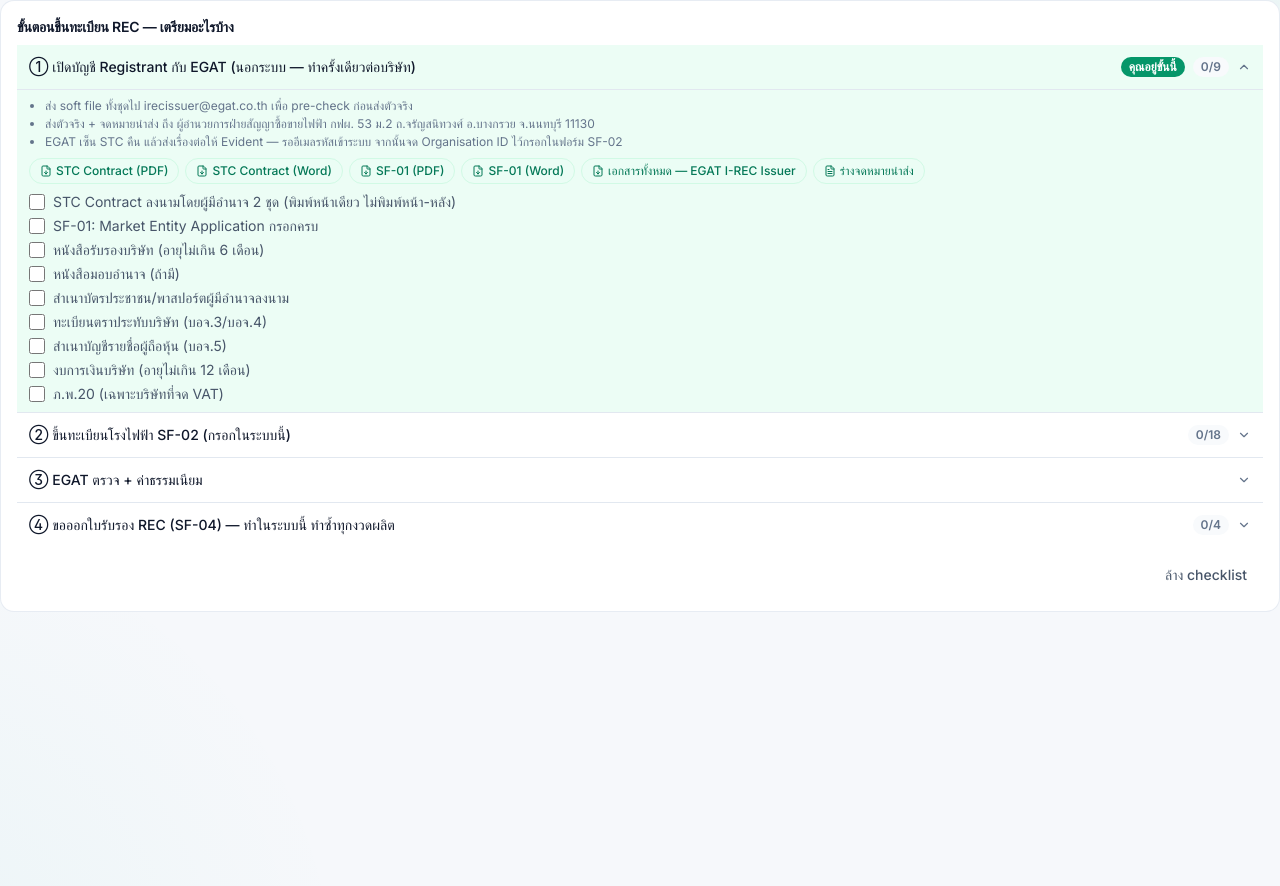
Scenario: RecGuide — 3-phase checklist › phase 1 is expanded by default; phase 2 expands on click
This screenshot has width=1280, height=886.
Expected: the checkbox labelled "STC Contract" is shown, [29, 194, 45, 210]
Expected: the field labelled "Single Line Diagram" is not shown
Click the text "② ขึ้นทะเบียนโรงไฟฟ้า SF-02 (กรอกในระบบนี้)". click: click(160, 434)
box: [29, 426, 291, 443]
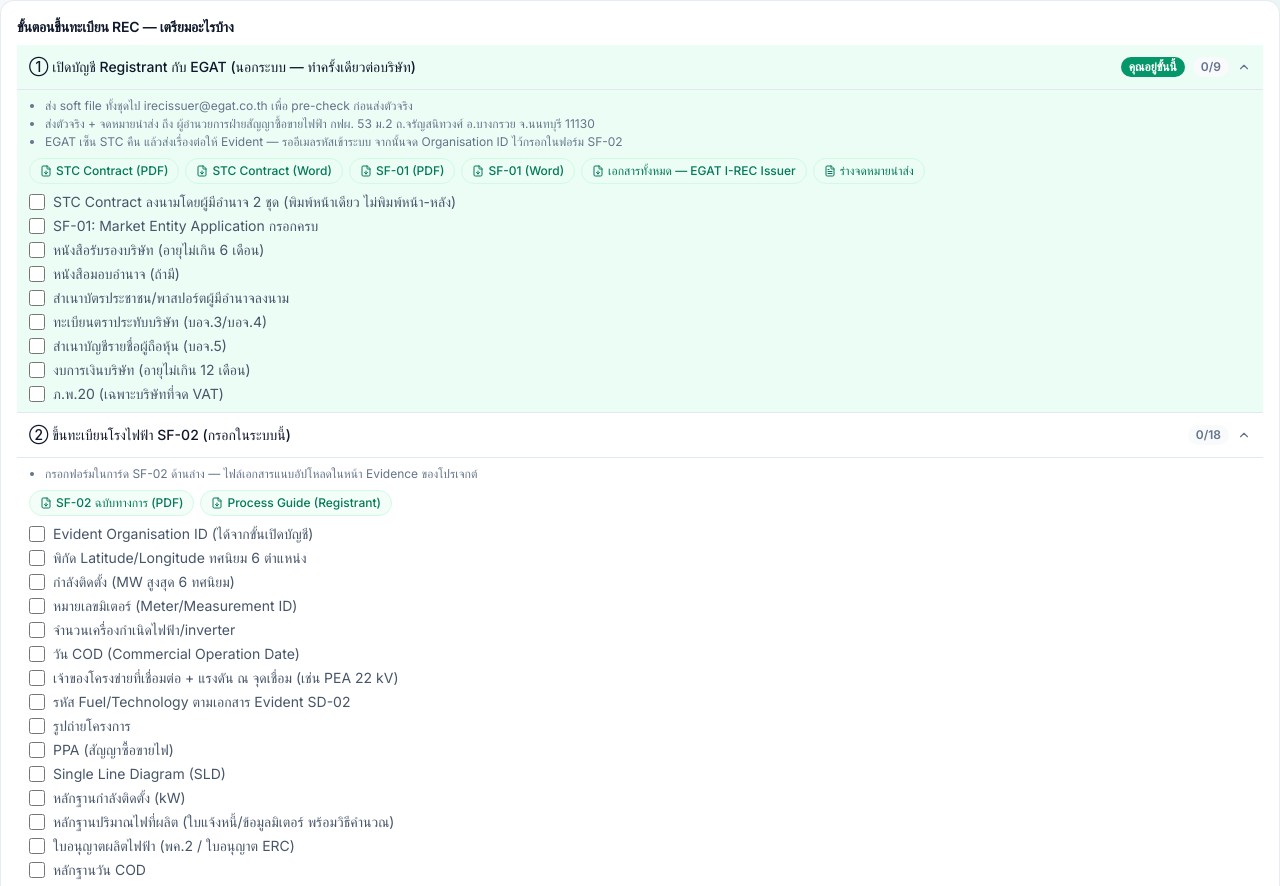
Expected: the checkbox labelled "Single Line Diagram (SLD)" is shown, [29, 766, 45, 782]
